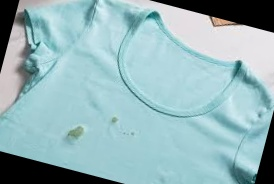mustard: (63, 122, 86, 147), (120, 128, 139, 139), (108, 109, 121, 125)
